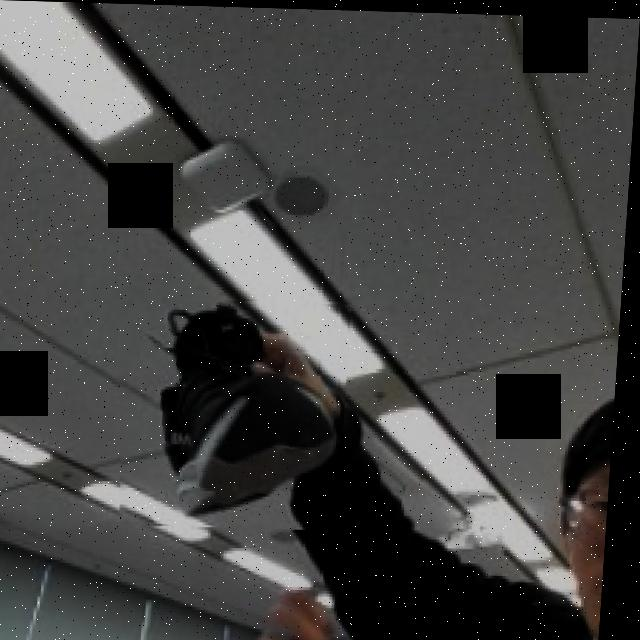shoe: (112, 294, 356, 529)
